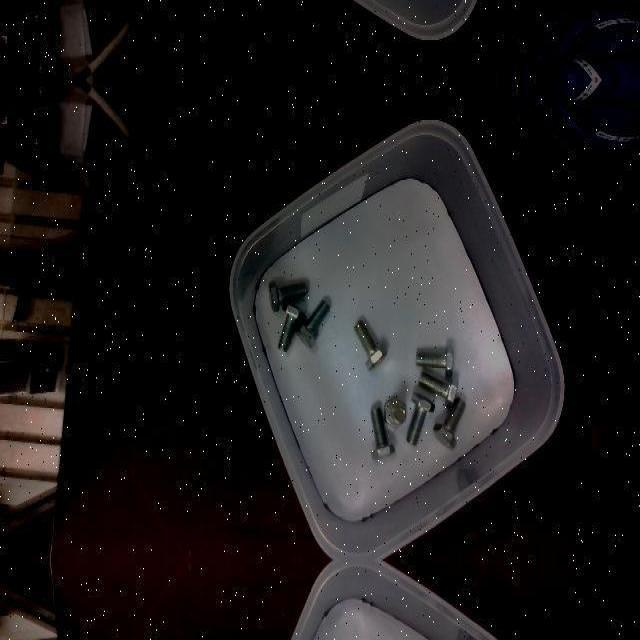screw: (294, 298, 330, 348), (433, 397, 466, 449), (353, 320, 387, 370), (406, 392, 435, 446), (418, 371, 458, 409), (277, 300, 305, 352), (369, 406, 395, 458), (415, 346, 453, 378), (269, 280, 307, 312), (384, 395, 406, 429)
